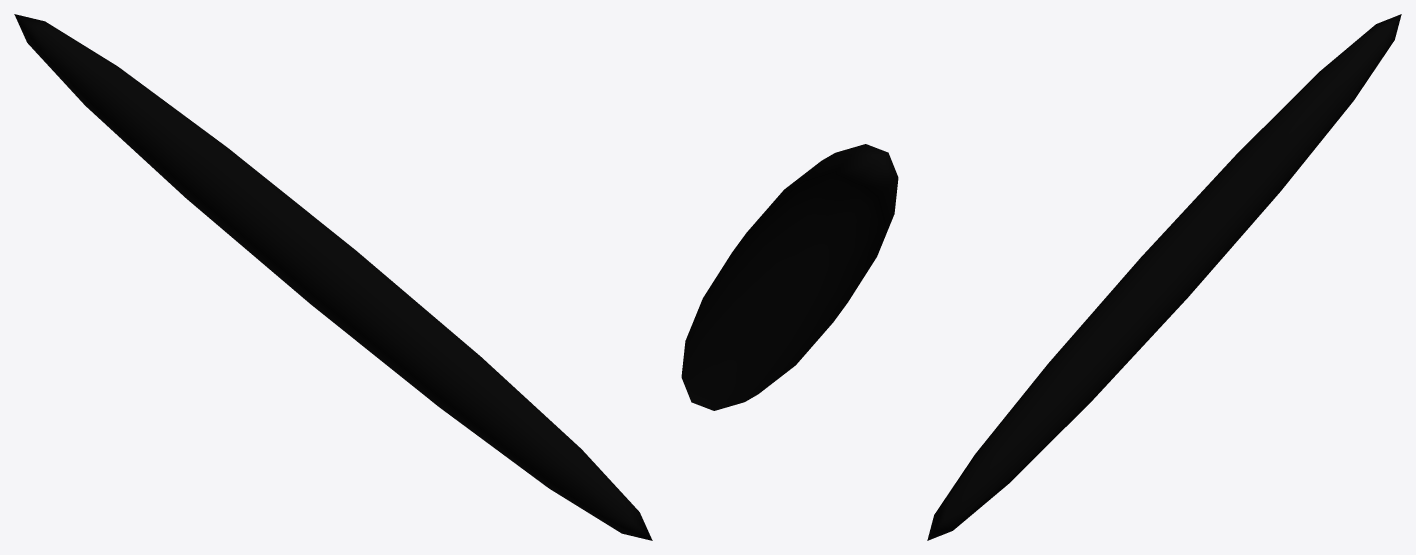
The model's file is back Leg 1.fbx.
3 views of the same model, side by side, from view 1: azimuth 30°, elevation 25°; view 2: azimuth 150°, elevation 25°; view 3: azimuth 270°, elevation 25° (orthographic). The views are drawn at different scales.
Visible parts, largest first — view 1: Cube.010; view 2: Cube.010; view 3: Cube.010.
Part boxes in pixels (x1,y1,x2,y2): Cube.010: [14, 14, 652, 540]; Cube.010: [681, 144, 898, 410]; Cube.010: [927, 14, 1401, 540].
Bounding box in the file's own units: 26.1 × 28.38 × 33.09.
